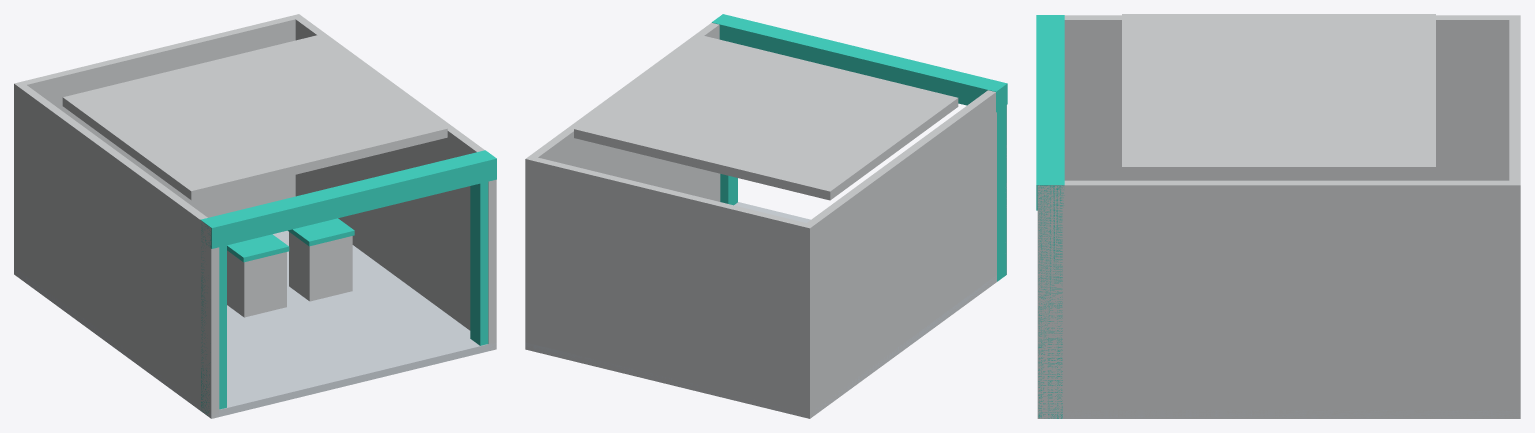
3 views of the same model, side by side, from view 1: azimuth 30°, elevation 25°; view 2: azimuth 150°, elevation 25°; view 3: azimuth 270°, elevation 25° (orthographic). The views are drawn at different scales.
Parts seen in each view (by area): view 1: Exhibition Booth Concept; view 2: Exhibition Booth Concept; view 3: Exhibition Booth Concept.
Boxes of the visible parts, left/top/right/bottom form: Exhibition Booth Concept: left=14, top=14, right=496, bottom=418; Exhibition Booth Concept: left=525, top=14, right=1007, bottom=418; Exhibition Booth Concept: left=1036, top=14, right=1520, bottom=418.
Size of the model in its own units: 5 by 3.34 by 6.02.
